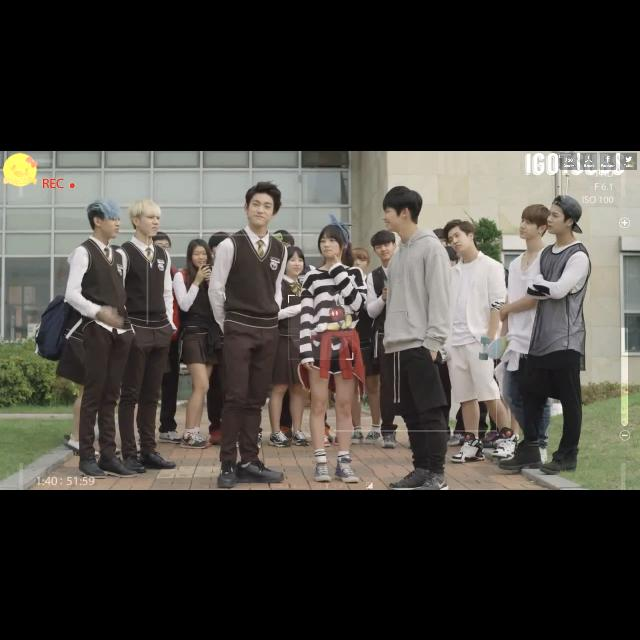head: (380, 188, 422, 232), (244, 184, 278, 226), (128, 198, 162, 236), (547, 195, 581, 233), (88, 198, 120, 238), (519, 203, 551, 239), (319, 224, 349, 258), (446, 222, 474, 252), (372, 230, 398, 260), (150, 230, 172, 260), (188, 238, 210, 268), (209, 231, 231, 259), (272, 228, 294, 256), (284, 246, 304, 274), (350, 247, 370, 271)
person: (34, 196, 140, 480), (497, 192, 595, 476), (206, 177, 290, 489), (430, 216, 524, 467), (102, 196, 182, 477), (295, 221, 371, 485), (494, 201, 562, 467), (235, 227, 308, 446), (363, 226, 432, 449), (188, 228, 256, 446), (128, 227, 188, 448), (324, 244, 388, 446), (170, 234, 226, 452), (264, 243, 314, 449)
